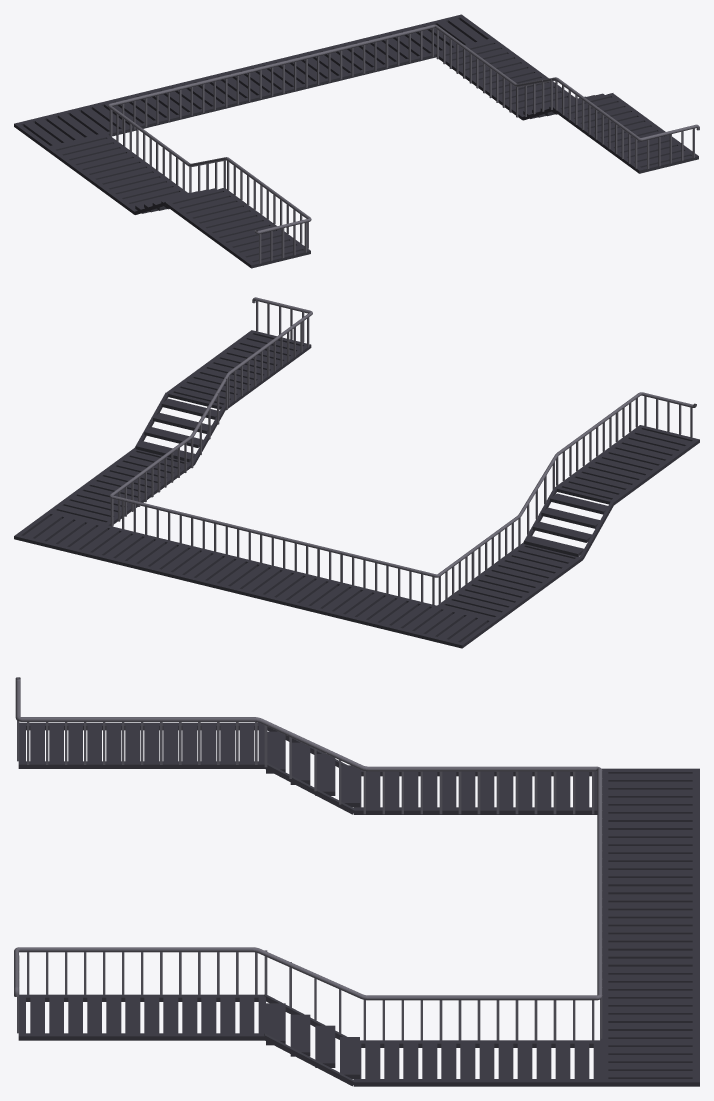
Rendered from Merdiven.fbx.
3 views of the same model, one above another, from view 1: azimuth 30°, elevation 25°; view 2: azimuth 150°, elevation 25°; view 3: azimuth 270°, elevation 25° (orthographic). The views are drawn at different scales.
Parts seen in each view (by area): view 1: Cube.005, Cube.011, Cube.007, Cube.015, Cube.012, Cube.013, Cube.020, Plane.003, Cube.021, Cube.014, Cube.004, Cube.019 (+2 smaller); view 2: Cube.007, Cube.013, Cube.012, Cube.005, Cube.011, Cube.015, Cube.020, Plane.003, Cube.021, Cube.008, Cube.017, Cube.004 (+4 smaller); view 3: Cube.013, Cube.007, Cube.012, Cube.015, Cube.020, Cube.005, Cube.011, Plane.003, Cube.017, Cube.008, Cube.010, Cube.019 (+4 smaller).
Part boxes in pixels (<box>): Cube.005: <box>166,188,310,268</box>; Cube.011: <box>48,134,187,214</box>; Cube.007: <box>14,87,197,151</box>; Cube.015: <box>553,93,698,173</box>; Cube.012: <box>163,51,346,115</box>; Cube.013: <box>313,14,495,78</box>; Cube.020: <box>436,40,574,120</box>; Plane.003: <box>108,24,699,234</box>; Cube.021: <box>112,28,433,135</box>; Cube.014: <box>555,80,694,168</box>; Cube.004: <box>227,161,308,263</box>; Cube.019: <box>436,29,518,117</box>; Cube.007: <box>313,584,496,648</box>; Cube.013: <box>14,511,197,575</box>; Cube.012: <box>163,547,346,611</box>; Cube.005: <box>555,425,699,504</box>; Cube.011: <box>437,542,582,622</box>; Cube.015: <box>166,330,311,409</box>; Cube.020: <box>49,448,194,525</box>; Plane.003: <box>109,297,696,577</box>; Cube.021: <box>110,496,434,605</box>; Cube.008: <box>524,493,607,556</box>; Cube.017: <box>135,398,219,462</box>; Cube.004: <box>556,396,692,485</box>; Cube.013: <box>601,977,699,1086</box>; Cube.007: <box>602,768,699,873</box>; Cube.012: <box>602,873,699,977</box>; Cube.015: <box>18,994,265,1040</box>; Cube.020: <box>353,1040,600,1086</box>; Cube.005: <box>18,722,265,768</box>; Cube.011: <box>353,769,597,814</box>; Plane.003: <box>14,677,602,1000</box>; Cube.017: <box>266,1003,359,1078</box>; Cube.008: <box>266,731,359,807</box>; Cube.010: <box>363,771,594,814</box>; Cube.019: <box>363,1000,594,1040</box>.
Size of the model in its own units: 3000 by 441 by 2774.
